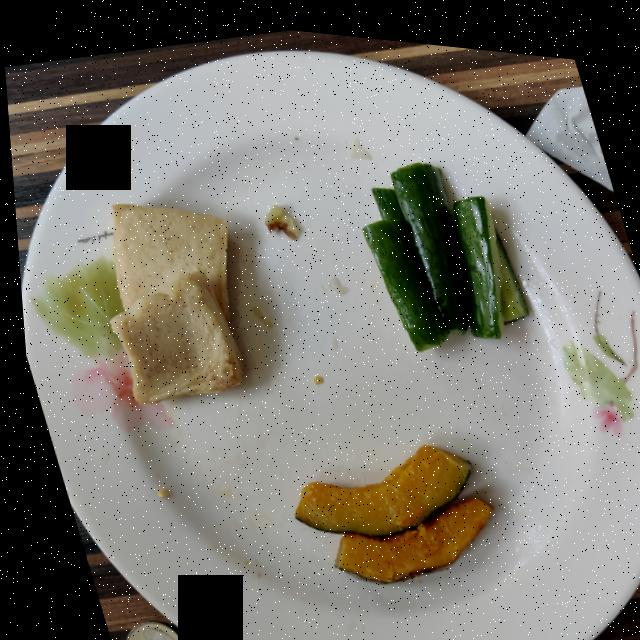coin: (115, 617, 174, 640)
creamy tofu -without sauce-: (105, 200, 237, 400)
cucumber: (359, 152, 524, 341)
pumpkin: (286, 435, 485, 575)
